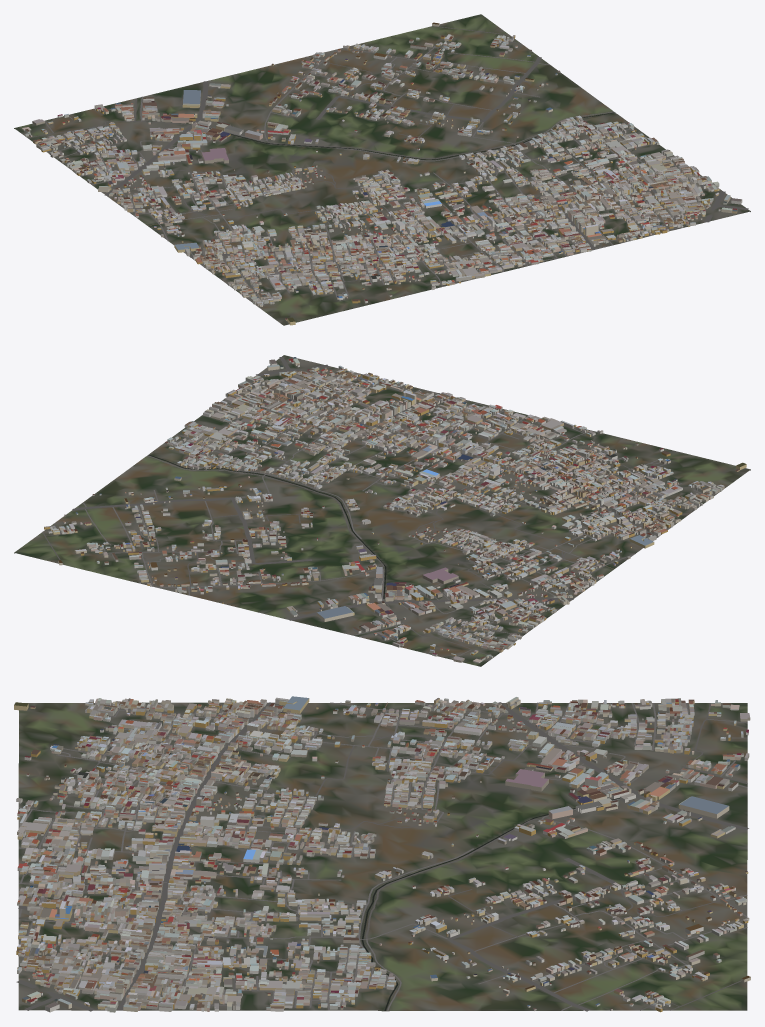
3 renders of one model, top to bottom at view 1: azimuth 30°, elevation 25°; view 2: azimuth 150°, elevation 25°; view 3: azimuth 270°, elevation 25°, orthographic. The views are drawn at different scales.
Visible parts, largest first — view 1: ground, buildings, roads; view 2: ground, buildings, roads; view 3: ground, buildings, roads.
Boxes of the visible parts, box(x1,y1,x2,y2) form: ground: box(14, 14, 750, 325); buildings: box(22, 22, 742, 325); roads: box(28, 26, 748, 305); ground: box(14, 355, 750, 666); buildings: box(44, 357, 746, 663); roads: box(42, 357, 702, 659); ground: box(18, 702, 747, 1011); buildings: box(14, 696, 750, 1012); roads: box(16, 702, 748, 1011).
Size of the model in its own units: 1422 by 28.89 by 1416.
